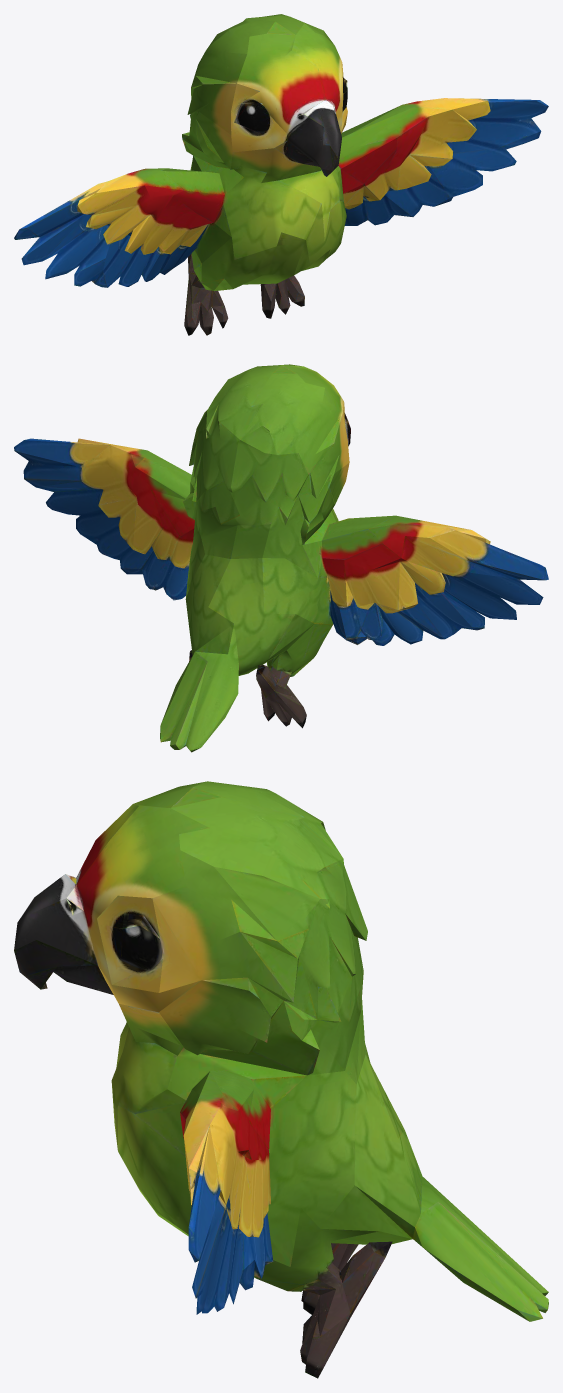
Rendered from toy-parrot.prefab.glb.
The picture shows the model from 3 angles, top to bottom: view 1: azimuth 30°, elevation 25°; view 2: azimuth 150°, elevation 25°; view 3: azimuth 270°, elevation 25°; orthographic projection. The views are drawn at different scales.
Parts seen in each view (by area): view 1: Prize_Batch0; view 2: Prize_Batch0; view 3: Prize_Batch0.
Part boxes in pixels (x1,y1,x2,y2): Prize_Batch0: [14, 14, 548, 335]; Prize_Batch0: [14, 364, 548, 752]; Prize_Batch0: [14, 781, 548, 1378].
Bounding box in the file's own units: 0.038 × 0.022 × 0.0196.
Materials: 1 (1 with a texture image).
